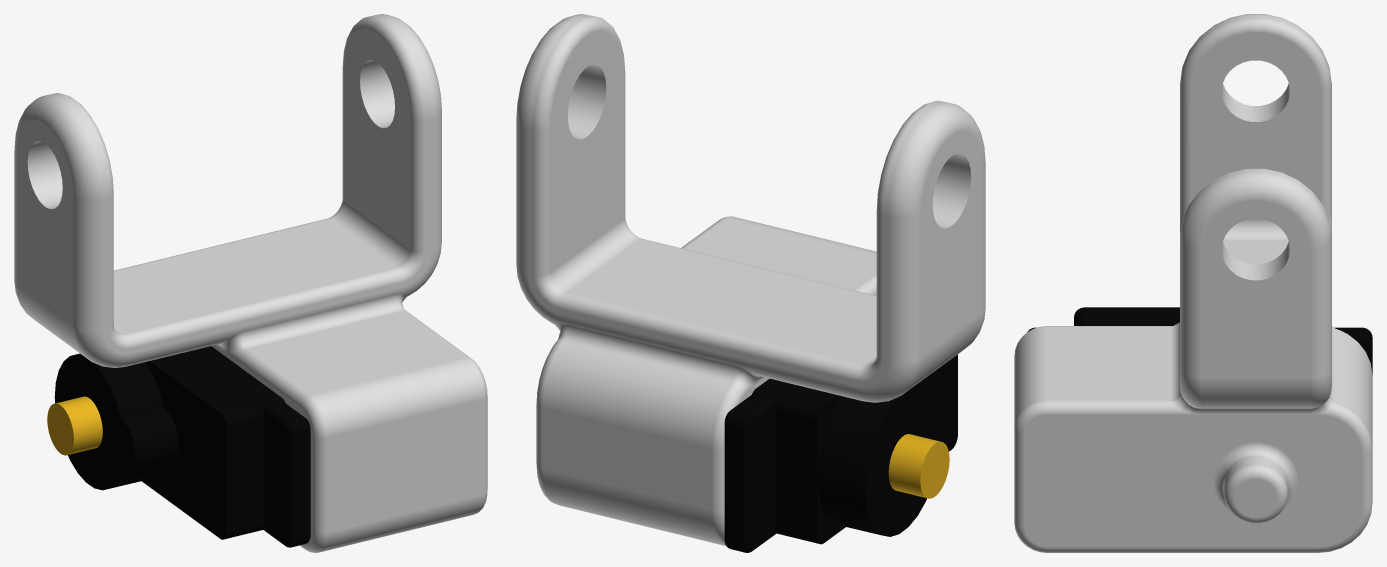
The model's file is LEG.gltf.
The picture shows the model from 3 angles, left to right: view 1: azimuth 30°, elevation 25°; view 2: azimuth 150°, elevation 25°; view 3: azimuth 270°, elevation 25°; orthographic projection. The views are drawn at different scales.
Parts seen in each view (by area): view 1: Fillet009, Body; view 2: Fillet009, Body; view 3: Fillet009, Body.
Boxes of the visible parts, box(x1,y1,x2,y2) form: Fillet009: box(14, 14, 487, 552); Body: box(47, 346, 310, 547); Fillet009: box(516, 14, 985, 546); Body: box(724, 354, 957, 552); Fillet009: box(1014, 14, 1372, 552); Body: box(1027, 307, 1372, 374).
Bounding box in the file's own units: 0.038 × 0.0402 × 0.033.
